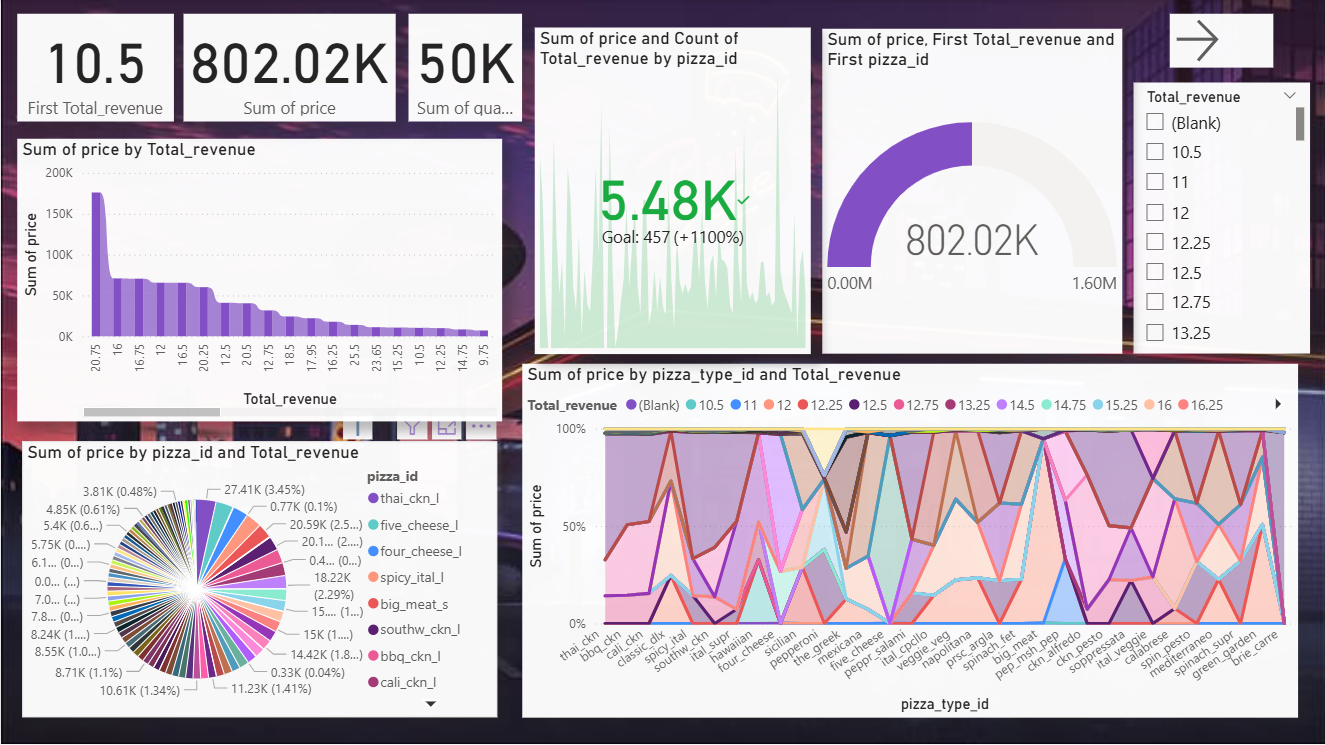

This screenshot's page, from the dashboard's own definition file:
{"tool":"powerbi","page":{"name":"Page 1","canvas":[1280,720],"ordinal":0},"visuals":[{"type":"card","fields":{"Values":["Min(total_revenue.Total_revenue)"]},"box":[15.7,13.3,150.8,103.8],"z":0},{"type":"pieChart","fields":{"Category":["total_revenue.pizza_id"],"Series":["total_revenue.Total_revenue"],"Y":["Sum(total_revenue.price)"]},"box":[20.5,425.9,458.4,266.6],"z":1000},{"type":"ribbonChart","fields":{"Category":["total_revenue.Total_revenue"],"Y":["Sum(total_revenue.price)"]},"box":[15.7,133.9,468.1,272.7],"z":2000},{"type":"card","fields":{"Values":["Sum(total_revenue.price)"]},"box":[176.1,13.3,205.1,103.8],"z":3000},{"type":"card","fields":{"Values":["Sum(order_details.quantity)"]},"box":[393.3,13.3,109.8,103.8],"z":4000},{"type":"slicer","fields":{"Values":["total_revenue.Total_revenue"]},"box":[1093,79.6,170.1,261.8],"z":5000},{"type":"gauge","fields":{"Y":["Sum(total_revenue.price)"]},"box":[792.6,27.7,289.5,313.7],"z":6000},{"type":"hundredPercentStackedAreaChart","fields":{"Category":["total_revenue.pizza_type_id"],"Series":["total_revenue.Total_revenue"],"Y":["Sum(total_revenue.price)"]},"box":[503.1,351.1,749.2,341.4],"z":7000},{"type":"kpi","fields":{"TrendLine":["total_revenue.pizza_id"],"Indicator":["Sum(total_revenue.price)"],"Goal":["CountNonNull(total_revenue.Total_revenue)"]},"box":[515.2,26.5,266.6,314.9],"z":7001},{"type":"actionButton","box":[1128,13.3,100.1,51.9],"z":7002}]}

Visuals, with their boxes in screenshot pixels (x1, y1, x2, y2), scaled from the page's 1280x720 canvas onto the 1325x745 screenshot:
card - Min(total_revenue.Total_revenue): (left=16, top=14, right=172, bottom=121)
pieChart - total_revenue.pizza_id x total_revenue.Total_revenue: (left=21, top=441, right=496, bottom=717)
ribbonChart - total_revenue.Total_revenue x Sum(total_revenue.price): (left=16, top=139, right=501, bottom=421)
card - Sum(total_revenue.price): (left=182, top=14, right=395, bottom=121)
card - Sum(order_details.quantity): (left=407, top=14, right=521, bottom=121)
slicer - total_revenue.Total_revenue: (left=1131, top=82, right=1308, bottom=353)
gauge - Sum(total_revenue.price): (left=820, top=29, right=1120, bottom=353)
hundredPercentStackedAreaChart - total_revenue.pizza_type_id x total_revenue.Total_revenue: (left=521, top=363, right=1296, bottom=717)
kpi - total_revenue.pizza_id x Sum(total_revenue.price): (left=533, top=27, right=809, bottom=353)
actionButton: (left=1168, top=14, right=1271, bottom=67)
